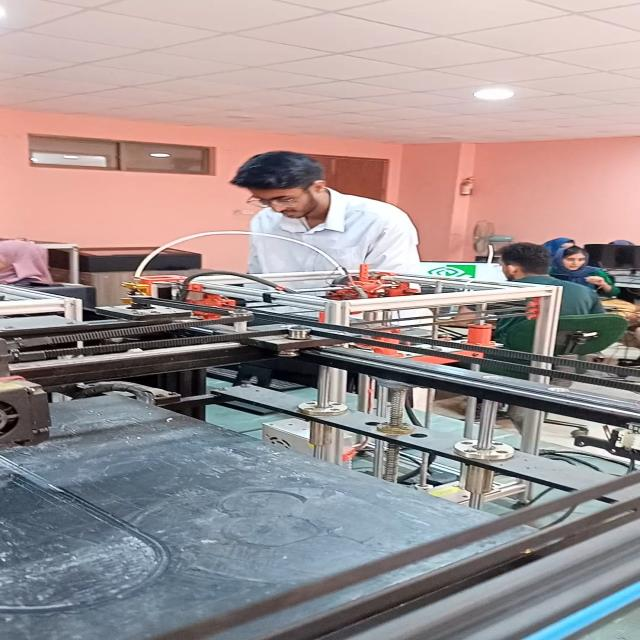dress: (242, 185, 430, 371)
glasses: (244, 195, 301, 209)
